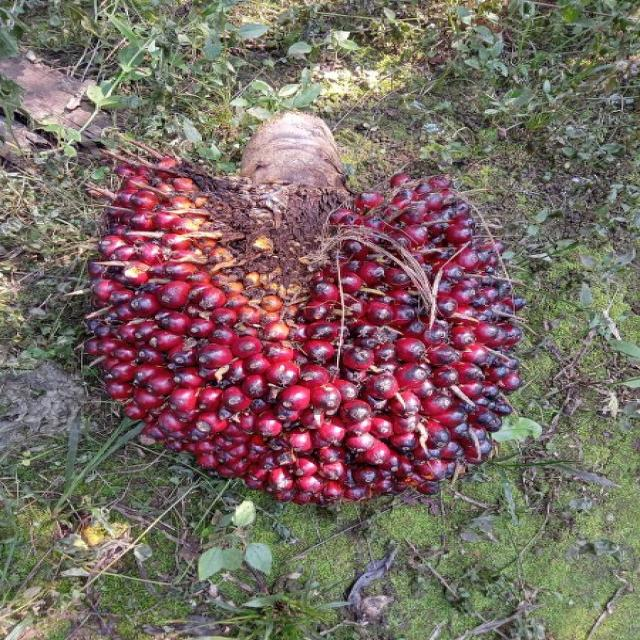fraksi 1: (39, 114, 570, 538)
